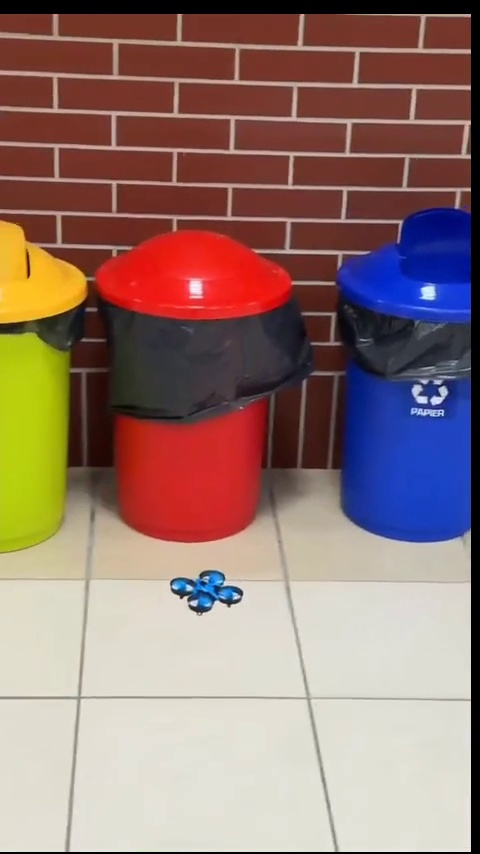drone: (169, 571, 236, 613)
